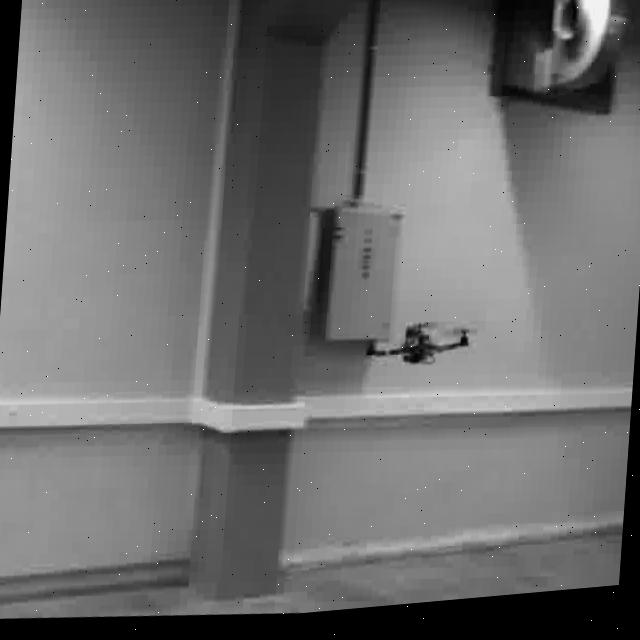drone: (358, 318, 474, 382)
